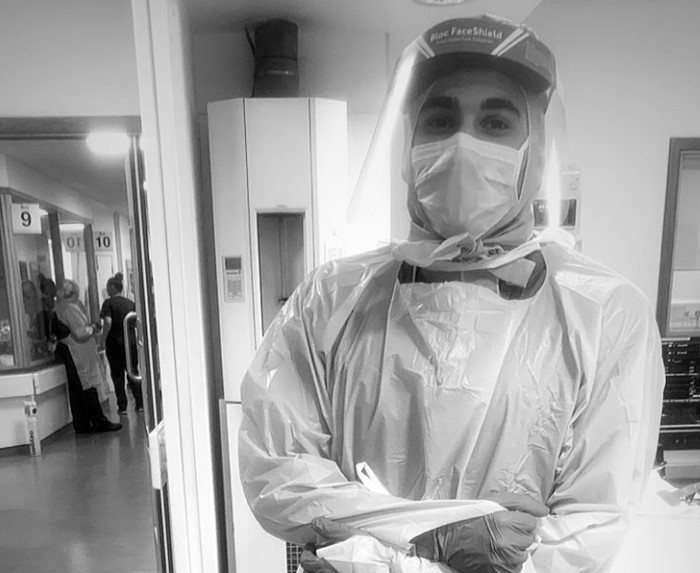face_with_mask: (377, 12, 556, 249)
